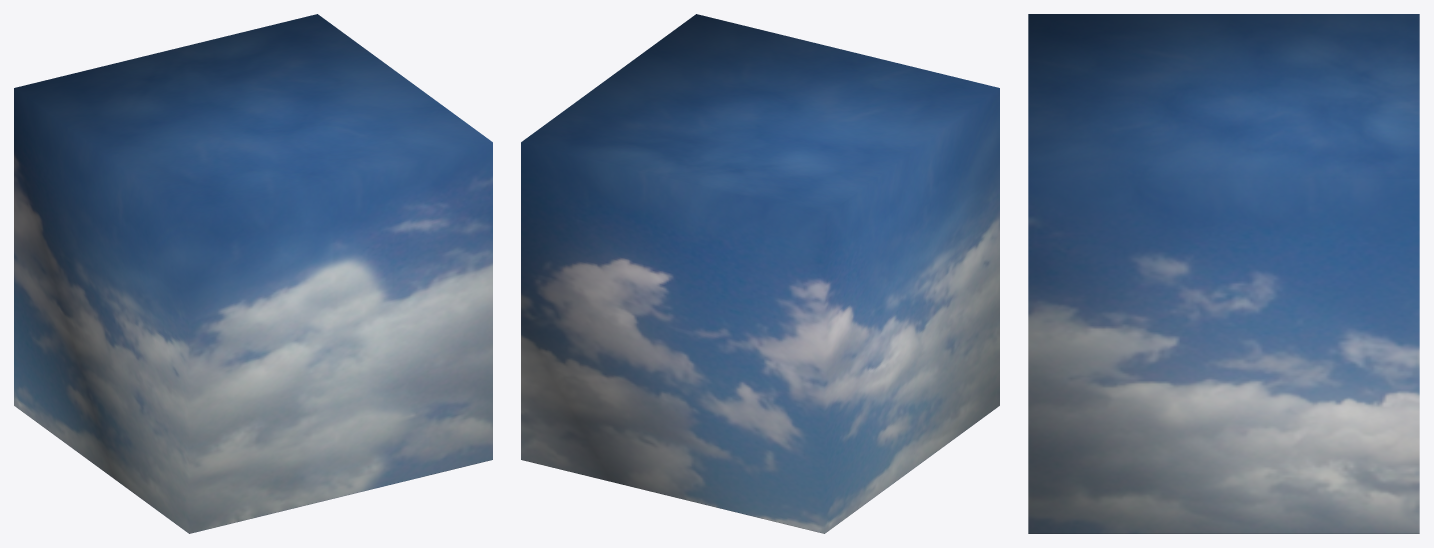
The model's file is tadc-map.glb.
3 renders of one model, left to right at view 1: azimuth 30°, elevation 25°; view 2: azimuth 150°, elevation 25°; view 3: azimuth 270°, elevation 25°, orthographic. The views are drawn at different scales.
Visible parts, largest first — view 1: object596; view 2: object596; view 3: object596.
Boxes of the visible parts, left/top/right/bottom form: object596: left=14, top=14, right=492, bottom=533; object596: left=521, top=14, right=999, bottom=533; object596: left=1028, top=14, right=1419, bottom=533.
Bounding box in the file's own units: 300 × 300 × 300.
29 materials, 21 textured.
